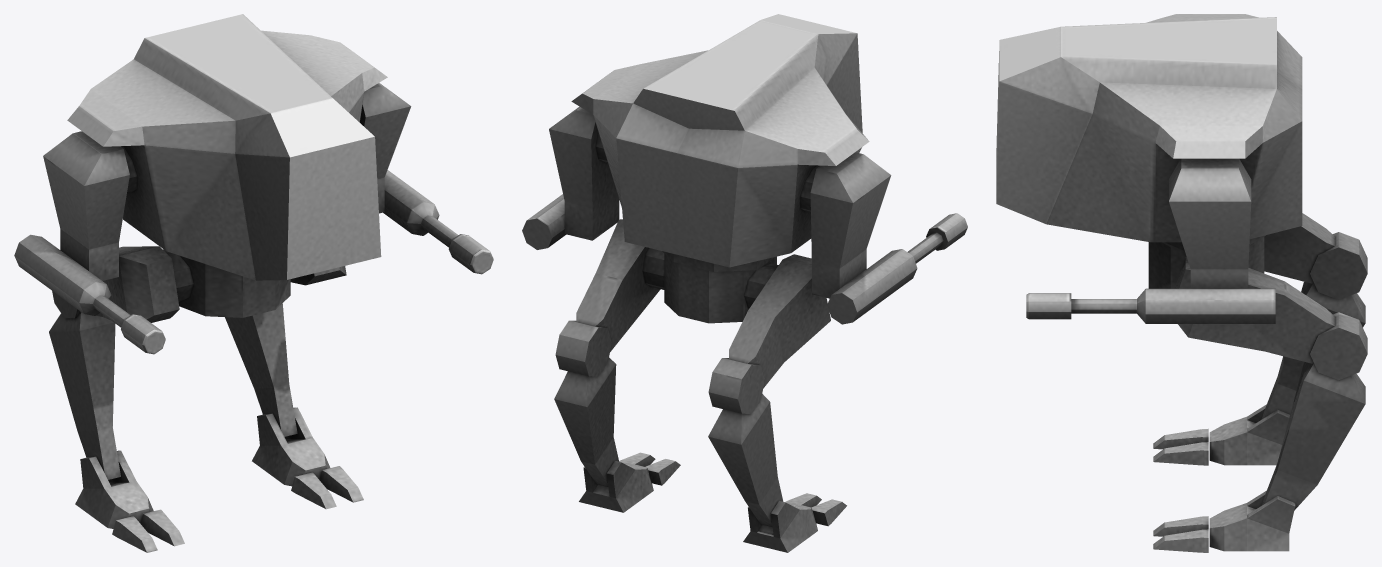
Rendered from mech01.fbx.
3 views of the same model, side by side, from view 1: azimuth 30°, elevation 25°; view 2: azimuth 150°, elevation 25°; view 3: azimuth 270°, elevation 25° (orthographic). The views are drawn at different scales.
Visible parts, largest first — view 1: Torso, HandR, LowerLegR, GunR, UpperLegR, LowerLegL, Hips, GunL, FootL, FootR, HandL, ToesL (+1 smaller); view 2: Torso, UpperLegR, HandR, UpperLegL, HandL, LowerLegR, LowerLegL, GunR, Hips, FootL, FootR, GunL (+2 smaller); view 3: Torso, HandL, UpperLegL, LowerLegL, GunL, UpperLegR, FootL, FootR, LowerLegR, Hips, ToesR, ToesL.
Part boxes in pixels (left/top/right/bottom): Torso: left=67, top=14, right=387, bottom=280; HandR: left=43, top=131, right=137, bottom=280; LowerLegR: left=49, top=312, right=120, bottom=479; GunR: left=14, top=234, right=165, bottom=354; UpperLegR: left=52, top=246, right=193, bottom=322; LowerLegL: left=225, top=303, right=297, bottom=436; Hips: left=178, top=256, right=290, bottom=317; GunL: left=383, top=170, right=493, bottom=274; FootL: left=252, top=407, right=330, bottom=486; FootR: left=75, top=450, right=153, bottom=528; HandL: left=360, top=83, right=411, bottom=213; ToesL: left=291, top=466, right=363, bottom=509; Torso: left=571, top=14, right=869, bottom=271; UpperLegR: left=708, top=254, right=830, bottom=413; HandR: left=800, top=152, right=891, bottom=298; UpperLegL: left=555, top=219, right=664, bottom=376; HandL: left=549, top=106, right=619, bottom=240; LowerLegR: left=708, top=394, right=783, bottom=526; LowerLegL: left=554, top=357, right=618, bottom=486; GunR: left=827, top=213, right=967, bottom=324; Hips: left=664, top=253, right=776, bottom=323; FootL: left=579, top=461, right=653, bottom=512; FootR: left=743, top=501, right=817, bottom=552; GunL: left=522, top=194, right=566, bottom=249; Torso: left=996, top=14, right=1302, bottom=250; HandL: left=1169, top=158, right=1251, bottom=288; UpperLegL: left=1175, top=257, right=1367, bottom=379; LowerLegL: left=1261, top=362, right=1365, bottom=510; GunL: left=1026, top=288, right=1275, bottom=323; UpperLegR: left=1264, top=213, right=1367, bottom=299; FootL: left=1209, top=490, right=1295, bottom=551; FootR: left=1209, top=404, right=1289, bottom=465; LowerLegR: left=1261, top=282, right=1365, bottom=419; Hips: left=1148, top=237, right=1264, bottom=288; ToesR: left=1153, top=428, right=1208, bottom=465; ToesL: left=1153, top=516, right=1208, bottom=552.
Bounding box in the file's own units: 731 × 882 × 652.
1 material, 1 textured.
